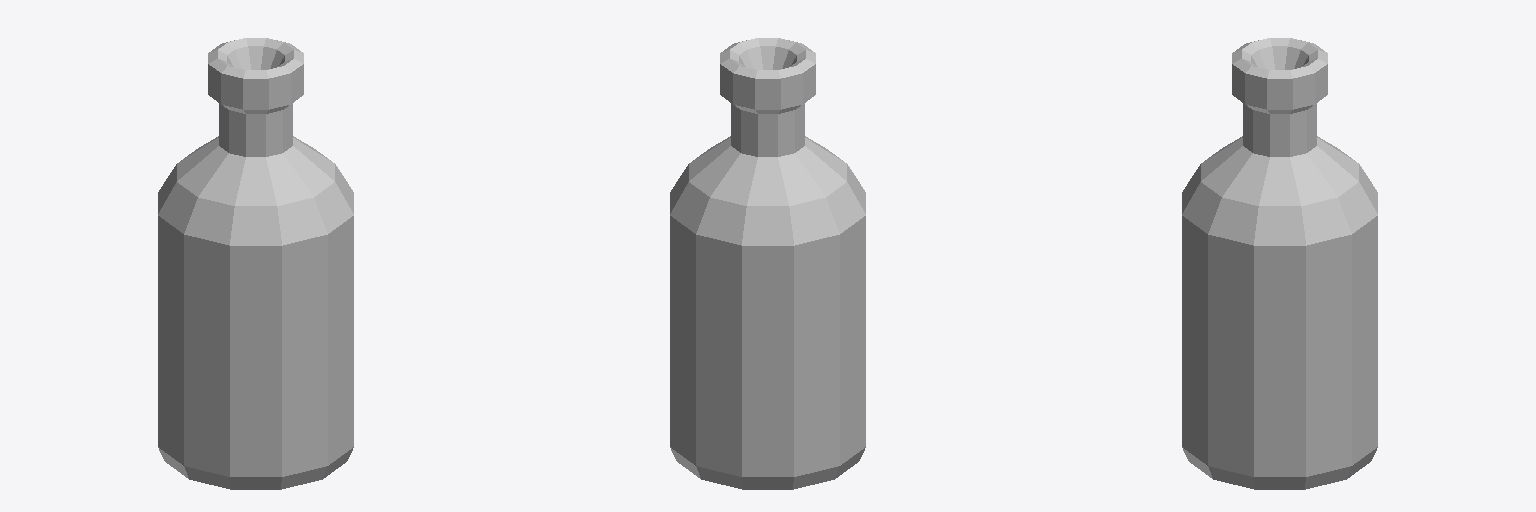
Rendered from wine_bottle.obj.
The picture shows the model from 3 angles: view 1: azimuth 30°, elevation 25°; view 2: azimuth 150°, elevation 25°; view 3: azimuth 270°, elevation 25°; orthographic projection.
Visible parts, largest first — view 1: wine_bottle; view 2: wine_bottle; view 3: wine_bottle.
Boxes of the visible parts, box(x1,y1,x2,y2) form: wine_bottle: box(158, 38, 353, 489); wine_bottle: box(670, 38, 865, 489); wine_bottle: box(1182, 38, 1377, 489).
Size of the model in its own units: 0.39 by 0.884 by 0.39.